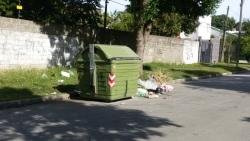Dechets: (139, 76, 174, 102), (60, 70, 71, 78), (57, 79, 66, 83)
Trash: (76, 44, 141, 100)
